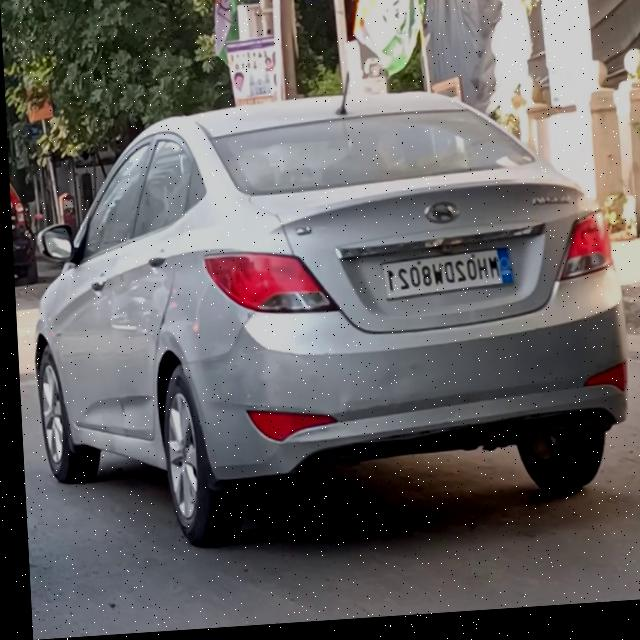plate: (378, 253, 511, 311)
